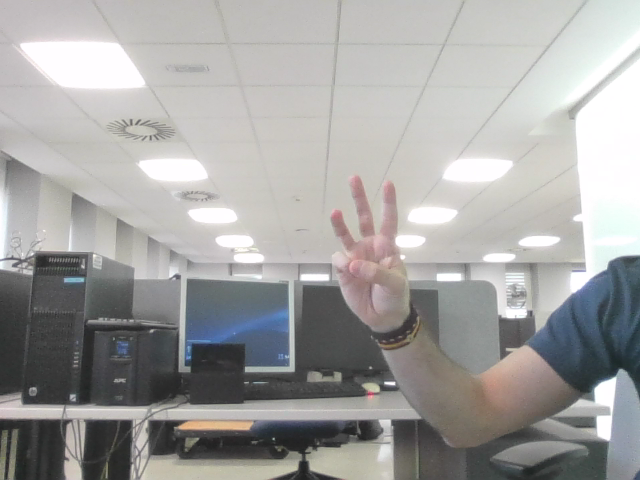3Dedos: (339, 188, 393, 300)
